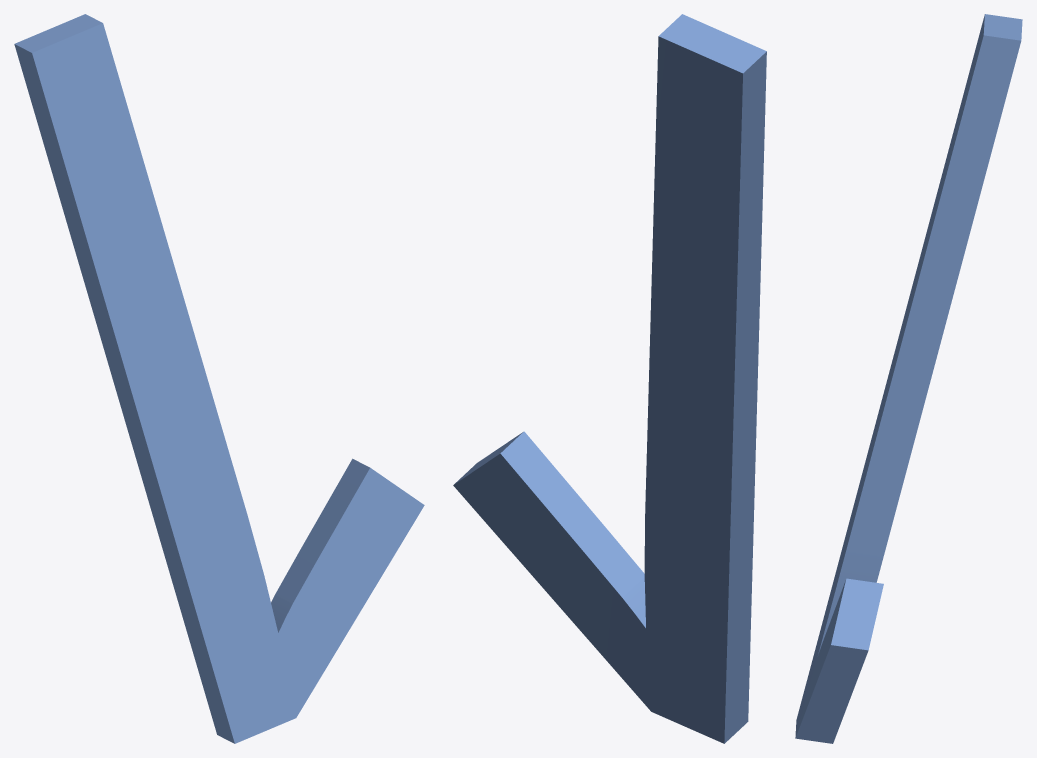
The model's file is New_Number_1.gltf.
3 views of the same model, side by side, from view 1: azimuth 30°, elevation 25°; view 2: azimuth 150°, elevation 25°; view 3: azimuth 270°, elevation 25° (orthographic). The views are drawn at different scales.
Visible parts, largest first — view 1: Part 145; view 2: Part 145; view 3: Part 145.
Boxes of the visible parts, bbox=[...] form: Part 145: bbox=[14, 14, 424, 743]; Part 145: bbox=[453, 14, 766, 743]; Part 145: bbox=[795, 14, 1022, 743].
Size of the model in its own units: 0.00247 by 0.00497 by 0.00152.
